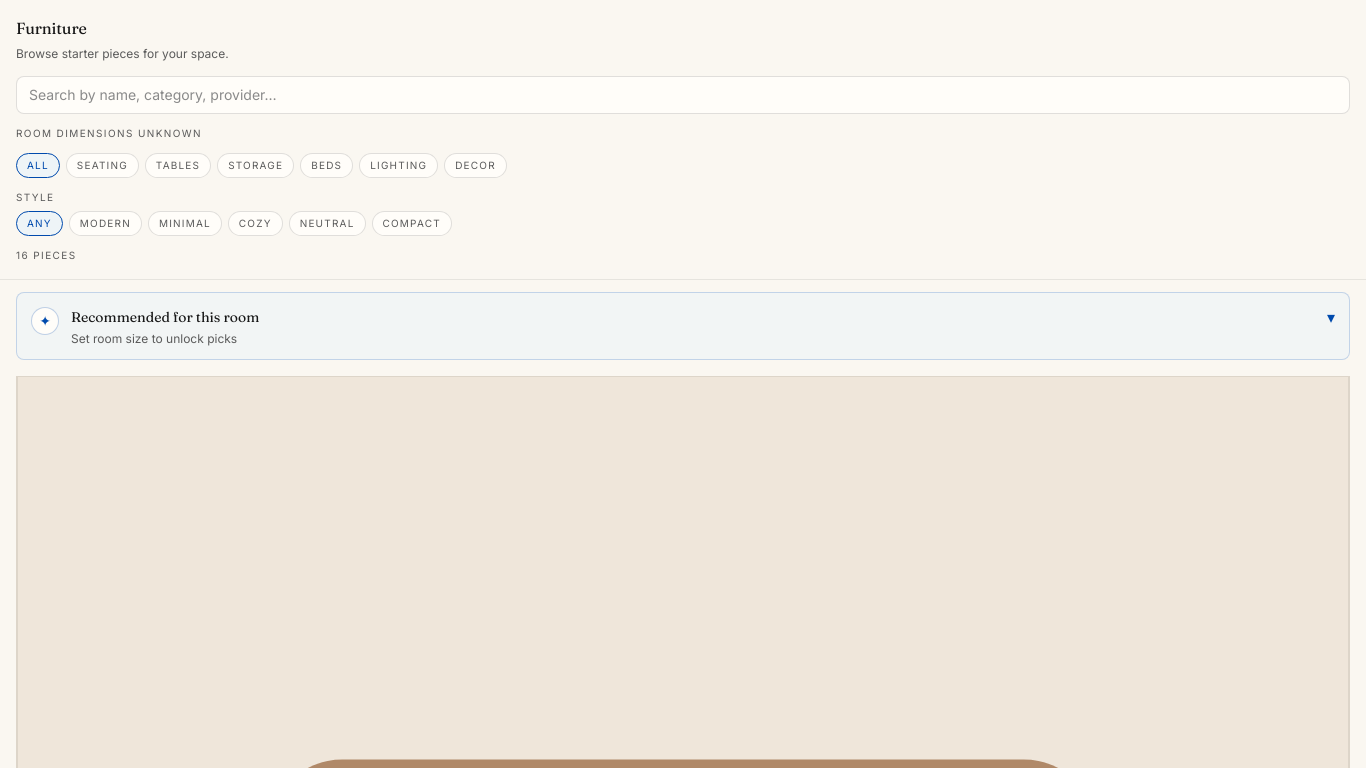
Test: FurnitureCatalogPanel › Recommended for this room section › prompts to set room dimensions when expanded and the room is unknown
Check: the text "Room dimensions unknown" is shown, box [16,126,202,138]
Check: the text "Set room size to unlock picks" is shown, box [71,330,237,346]
Click the button with test id "recommended-collapsible-trigger": (165, 316) [16,292,1350,360]
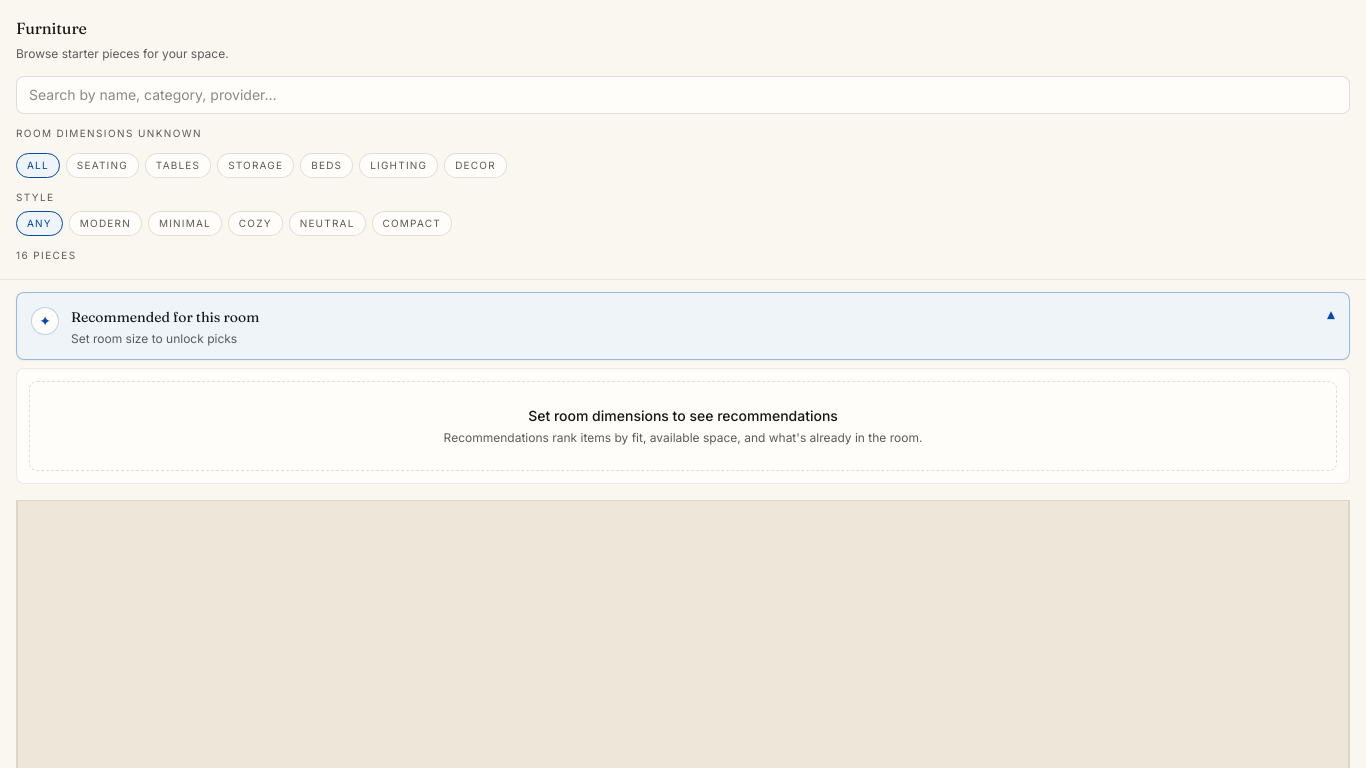
Check: the element with test id "recommended-empty-state" shows "Set room dimensions", box [528,406,838,424]
